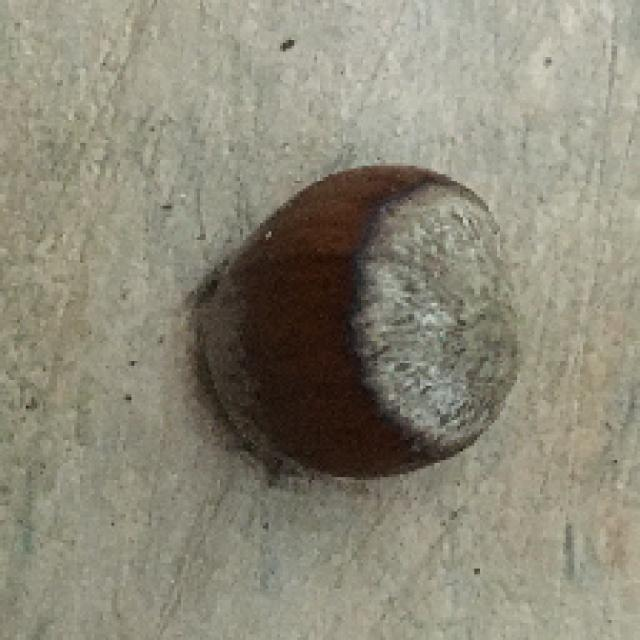qualityHazelnut: (164, 160, 537, 494)
